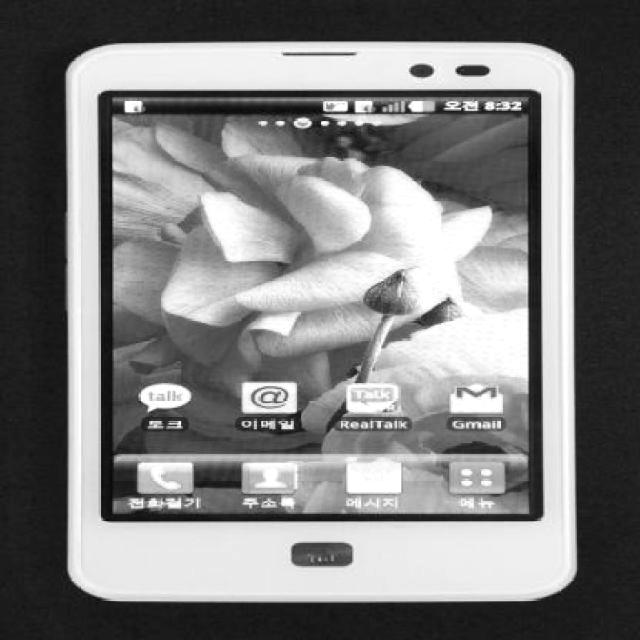fake: (48, 33, 594, 619)
